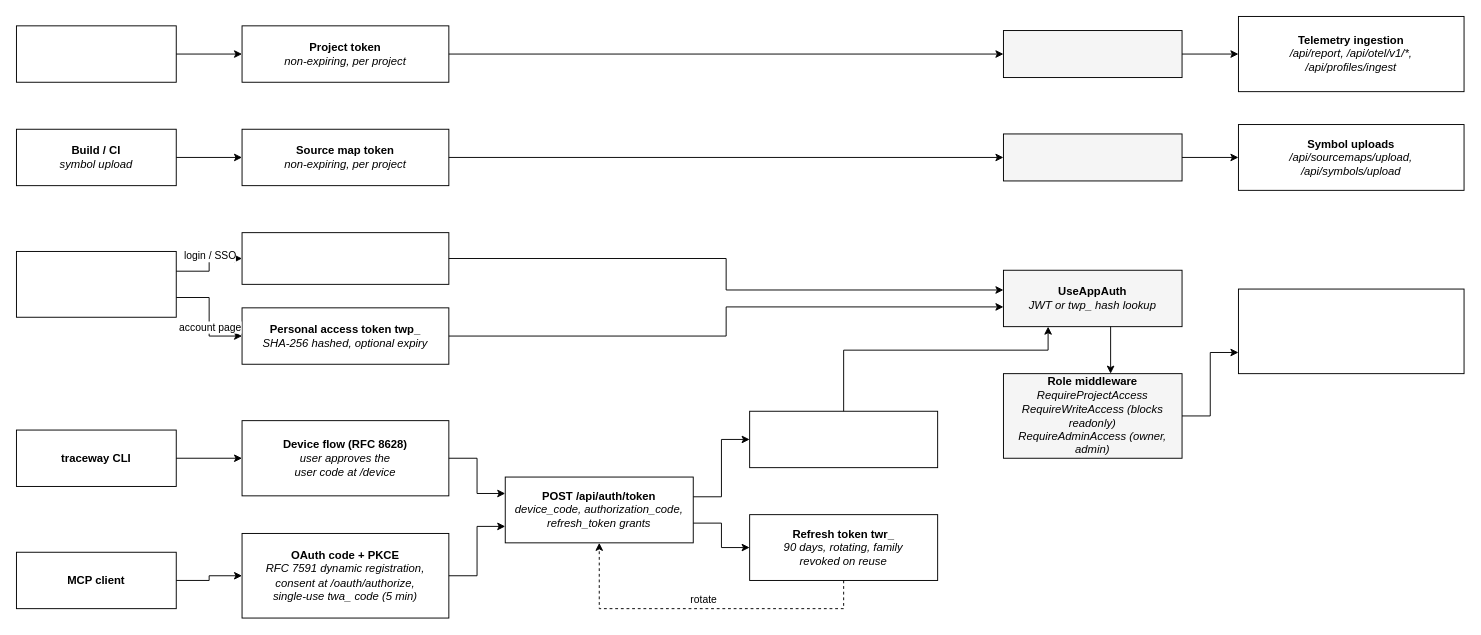
Image size: 1481x635. Some labels were removed from this diagram. Each missing label, with the centre of its shape:
"Access token 15-min JWT" goes at pixel 843 439.
"App with Traceway SDK or OTel exporter" goes at pixel 96 53.
"Dashboard API + MCP server scoped by organization role" goes at pixel 1351 331.
"Dashboard JWT 7 days" goes at pixel 345 258.
"Dashboard user browser" goes at pixel 96 284.
"UseClientAuth" goes at pixel 1092 54.
"UseSourceMapAuth" goes at pixel 1092 157.
